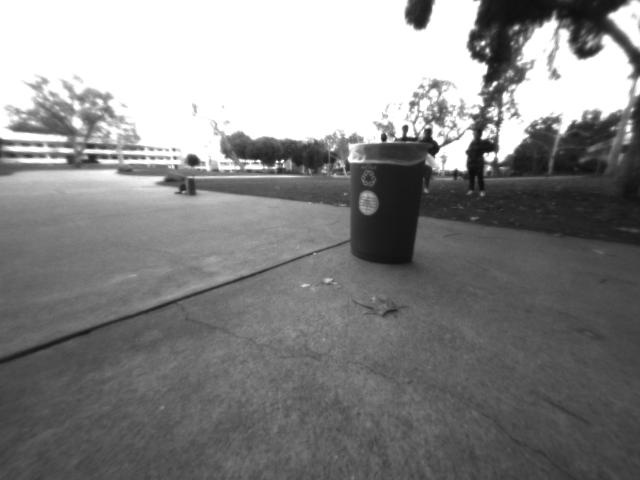trashcan_open: (345, 139, 427, 269)
